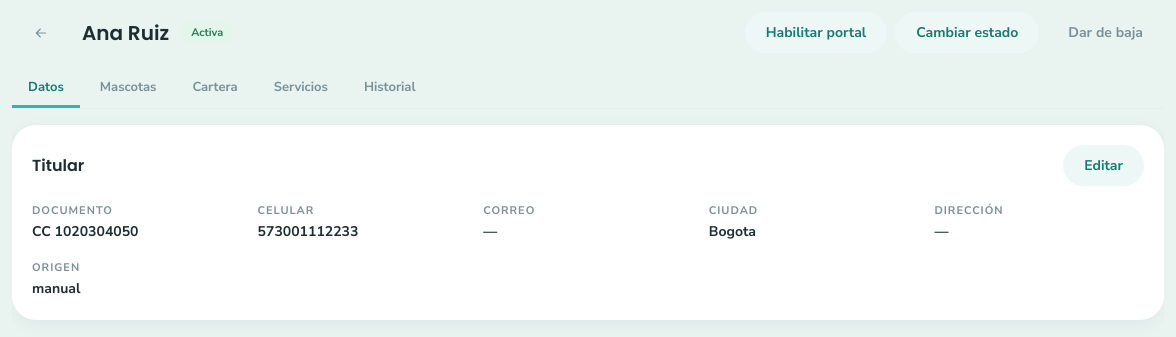
Scenario: FamiliaDetallePage › muestra el historial vacío sin dejar la pestaña en blanco
This screenshot has width=1176, height=337.
Click the tab "Historial".
click(390, 89)  # box x1=348 y1=69 x2=432 y2=108
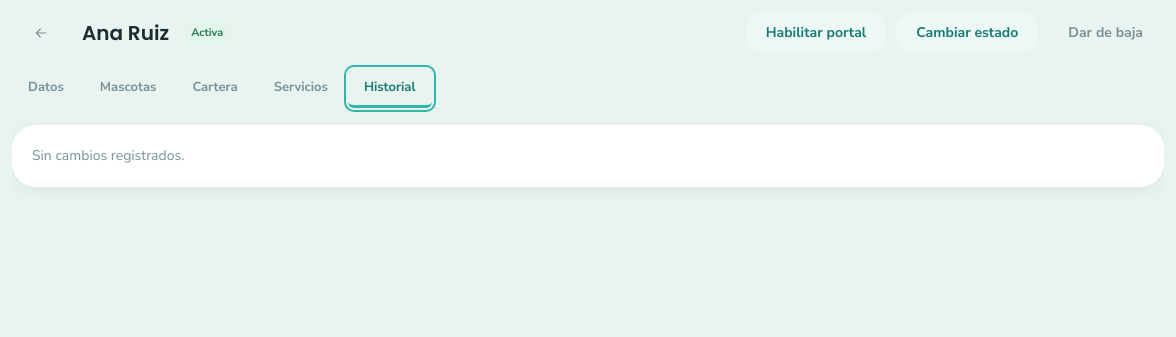
expect the text "Sin cambios registrados." is shown: met, box x1=32 y1=146 x2=184 y2=165
